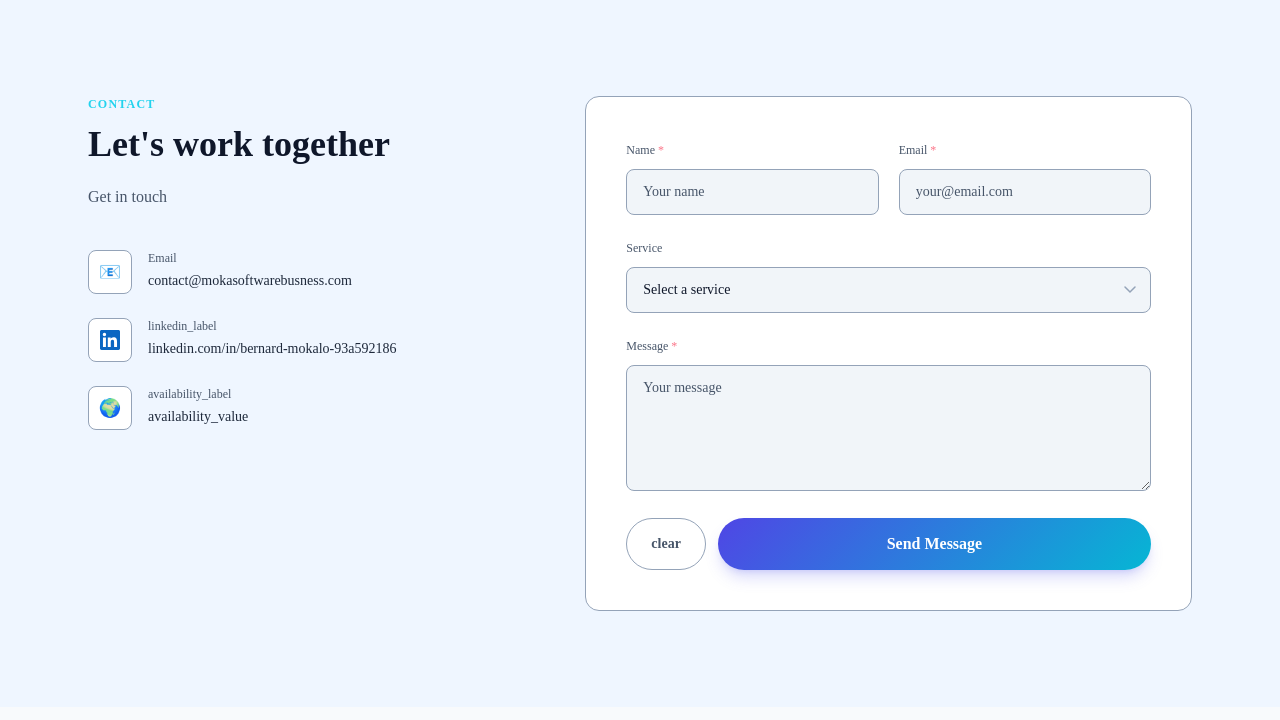
Scenario: Contact › shows error when name is missing
Type "john@example.com" into the field labelled "Email *" at (1025, 192), box [899,169,1151,215]
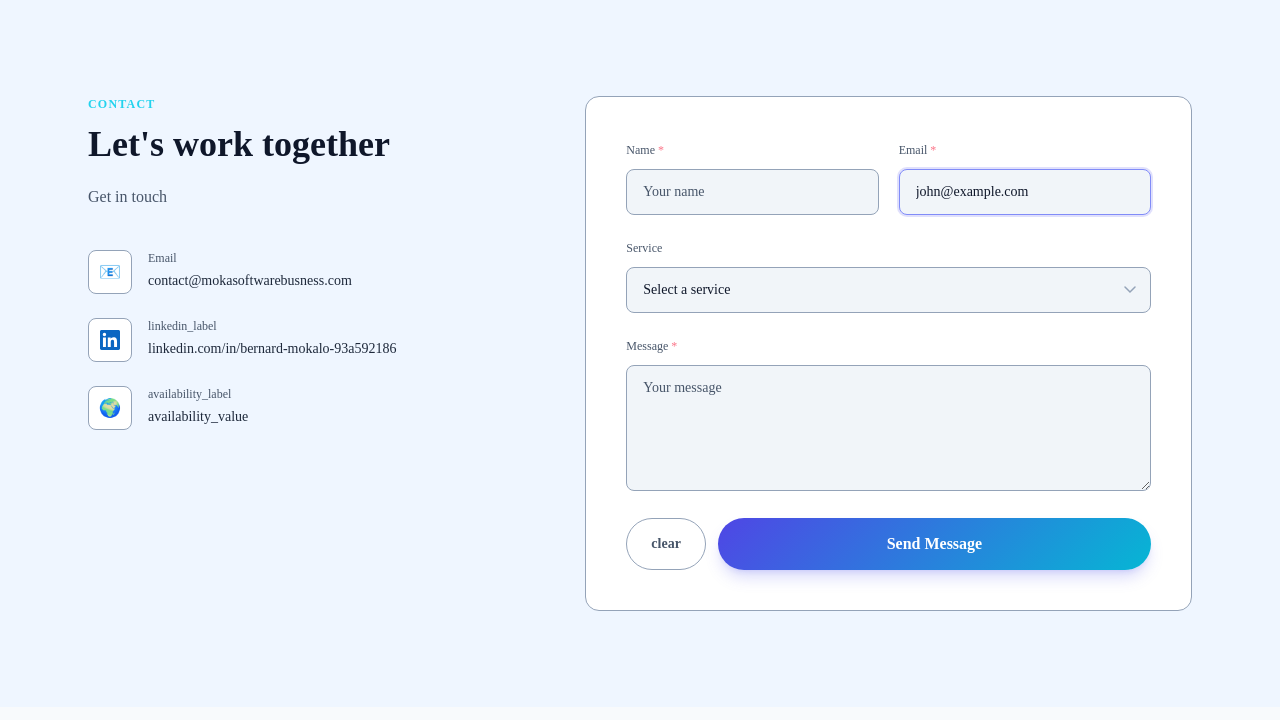
Type "Hello" into the text box labelled "Message *" at (889, 428), box [626,365,1151,491]
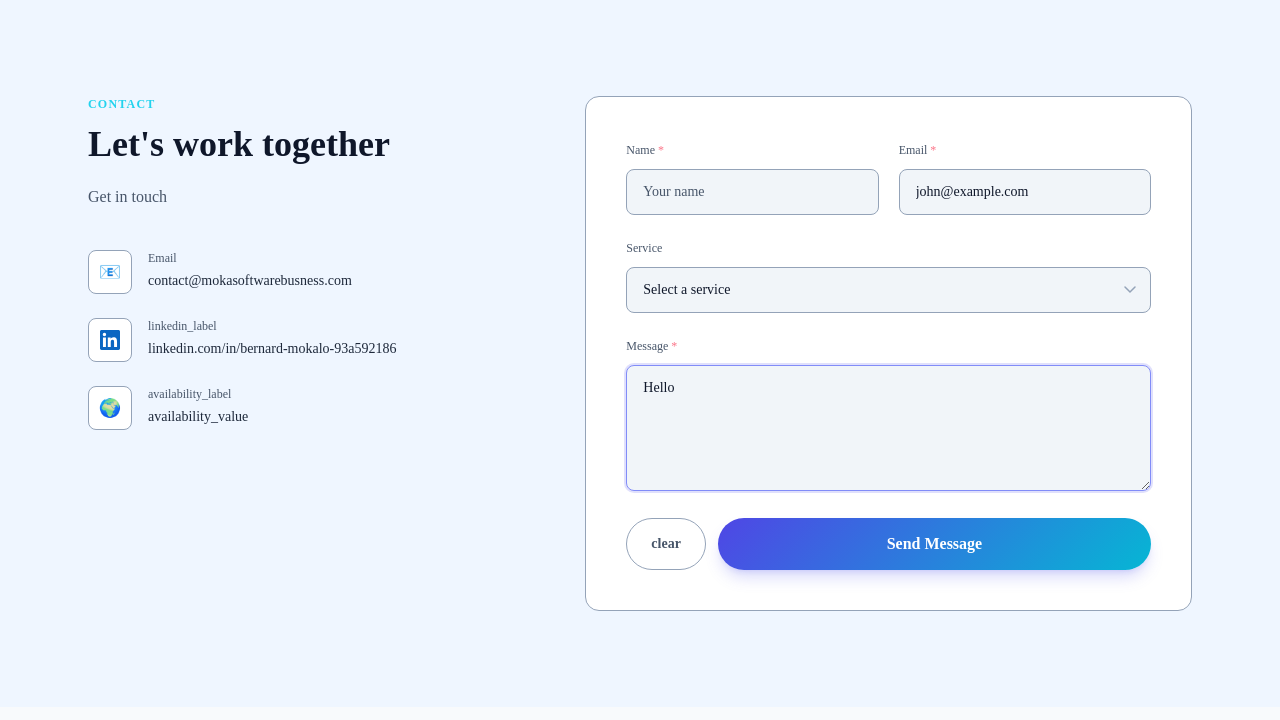
Click the button "Send Message" at (934, 544), box [718,518,1151,570]
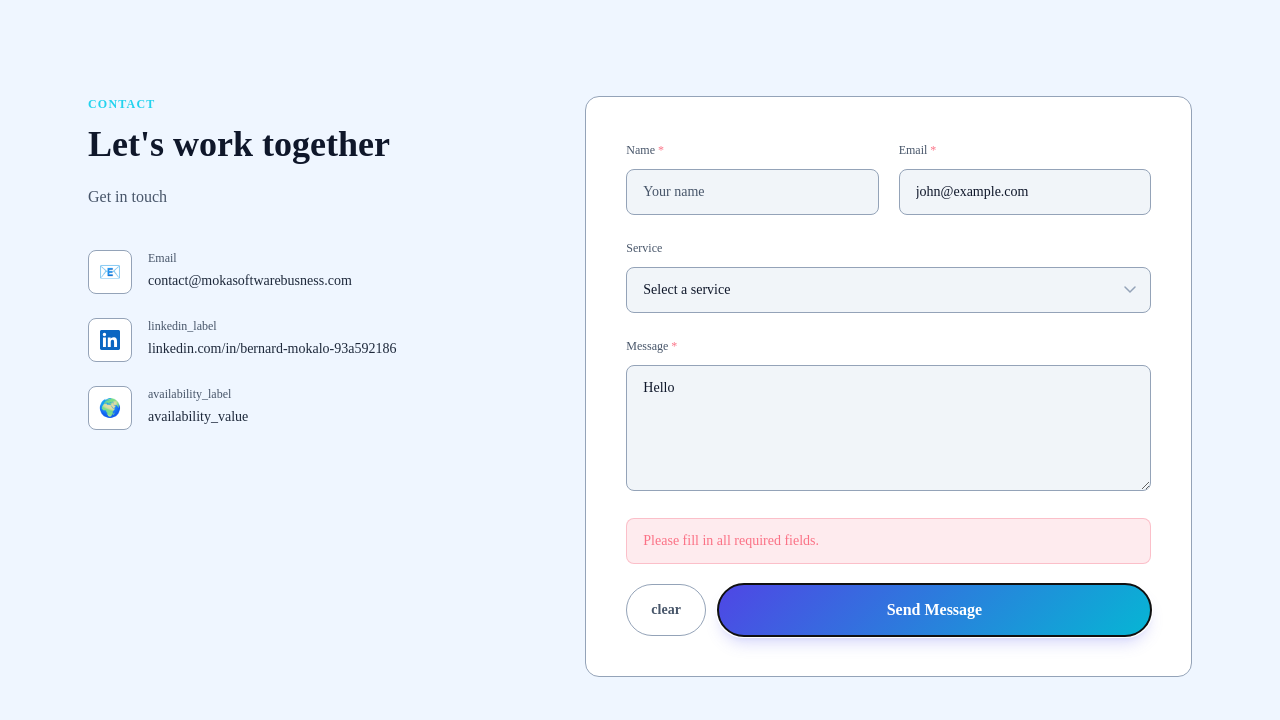
Expected: the text "Please fill in all required fields." is shown, [626,518,1151,564]
